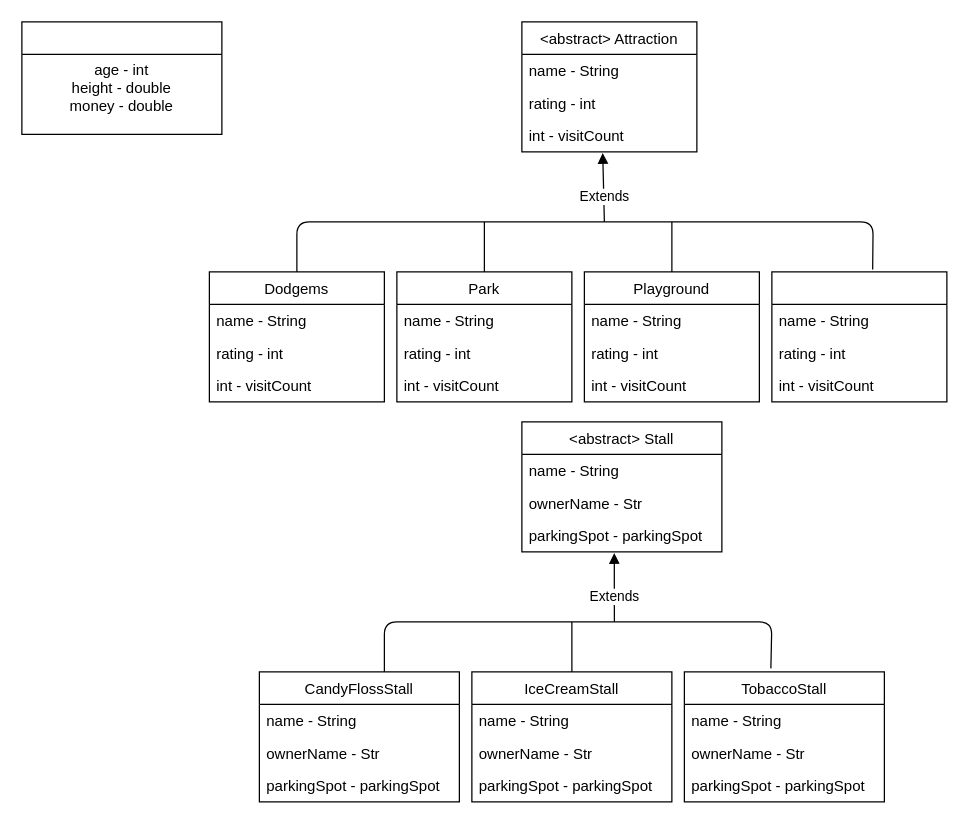
This 969x828 diagram has some shape labels left out. Each missing label, with the box of its shape:
Rollercoaster: (771, 271, 947, 402)
Visitor: (21, 21, 222, 134)
